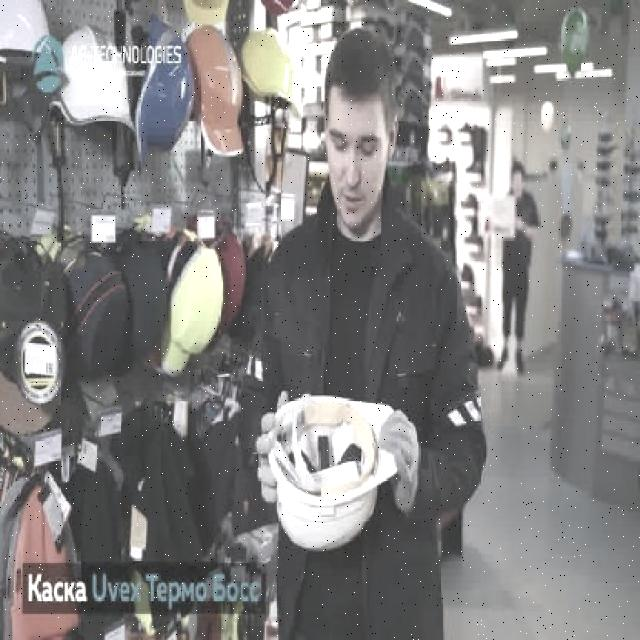Gloves: (376, 408, 421, 516), (257, 387, 288, 507)
Helmet: (267, 392, 396, 556), (53, 20, 138, 137), (132, 15, 195, 166), (183, 17, 248, 158), (237, 26, 303, 120), (0, 0, 58, 77)
